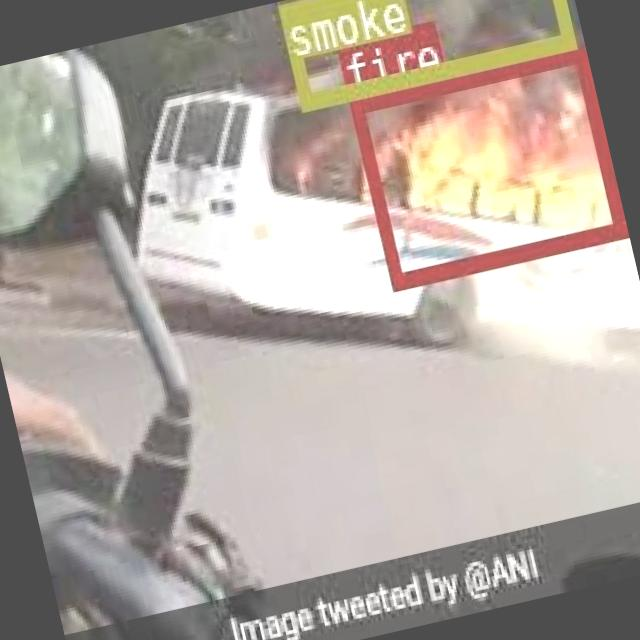fire: (347, 44, 622, 286)
smoke: (277, 0, 573, 107)
